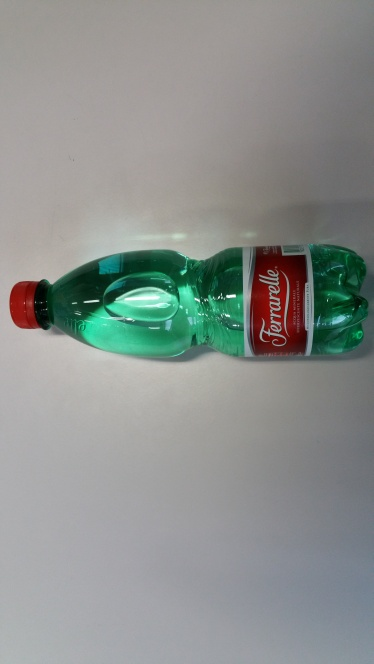bottle: (8, 250, 374, 361)
